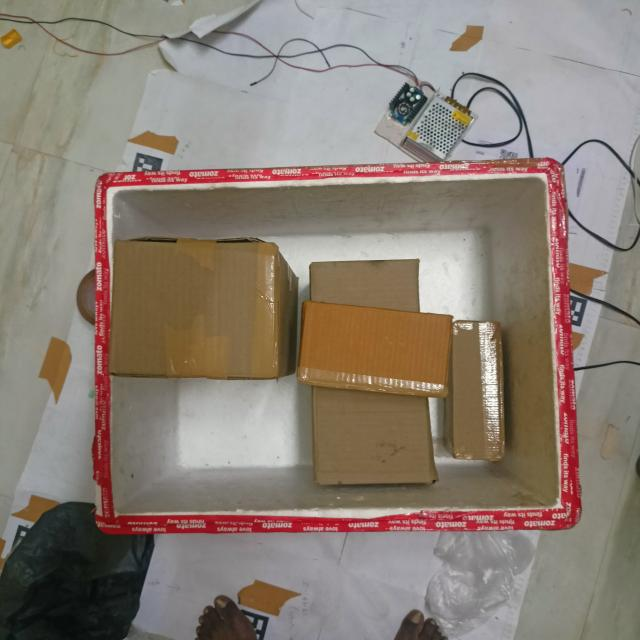box: (108, 234, 269, 379), (313, 300, 457, 393)
